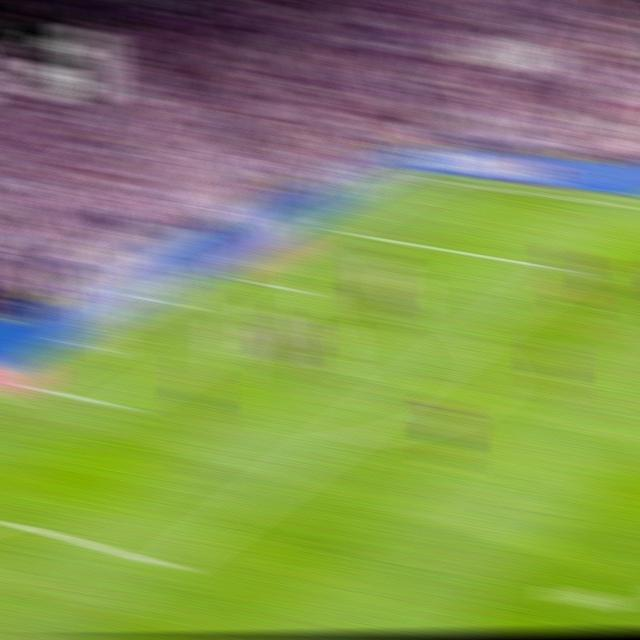bigarea_bottom_inner: (152, 547, 186, 583)
bigarea_top_inner: (552, 262, 577, 279)
bigarea_top_outter: (319, 219, 349, 238)
bottom_arc_area_intersection: (320, 423, 352, 453)
corner: (413, 172, 443, 187)
smallarea_bottom_inner: (104, 393, 134, 421)
smallarea_bottom_outter: (18, 376, 48, 395)
smallarea_top_inner: (300, 286, 325, 303)
top_arc_area_intersection: (458, 326, 488, 349)
